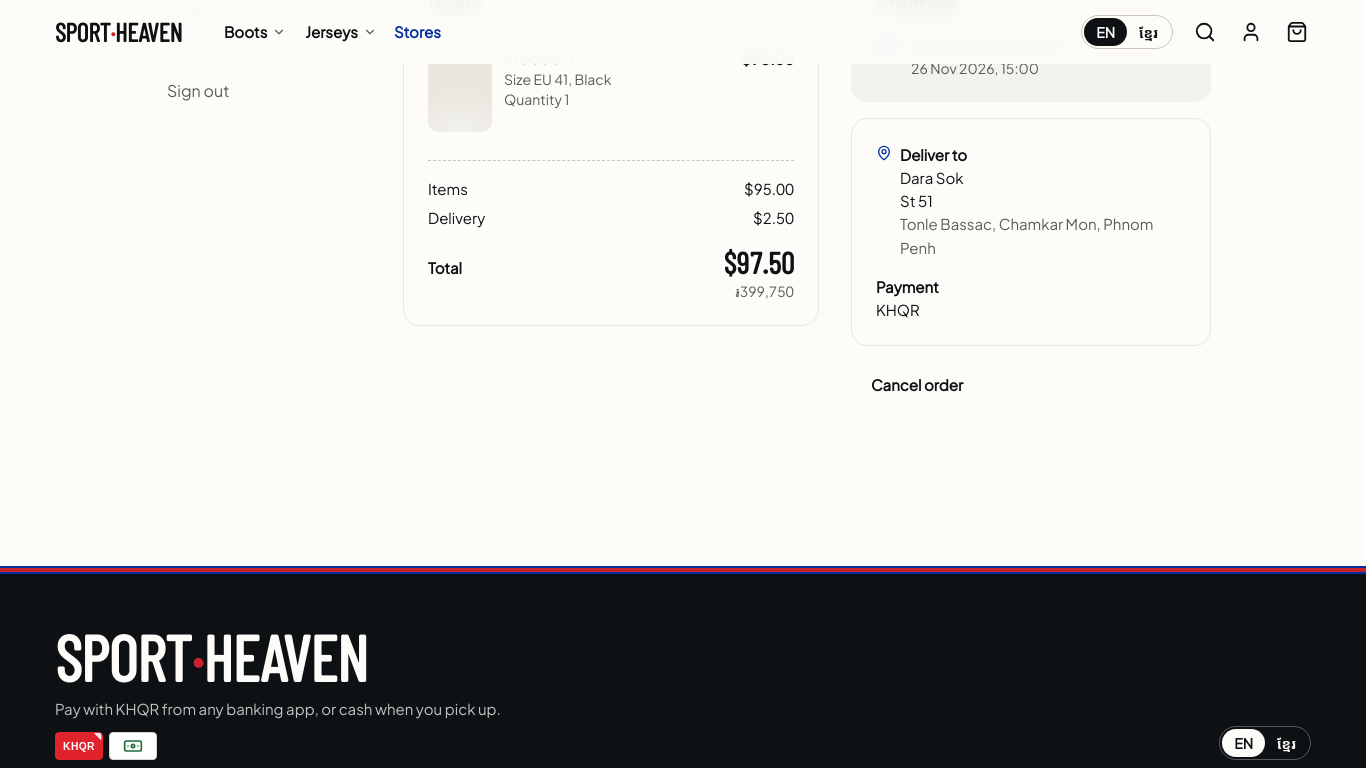
Test: account › cancels an unpaid order from the account and shows it cancelled
(page scrolled)
Click the button "Cancel order".
click(917, 384)  # box [851,362,983,406]
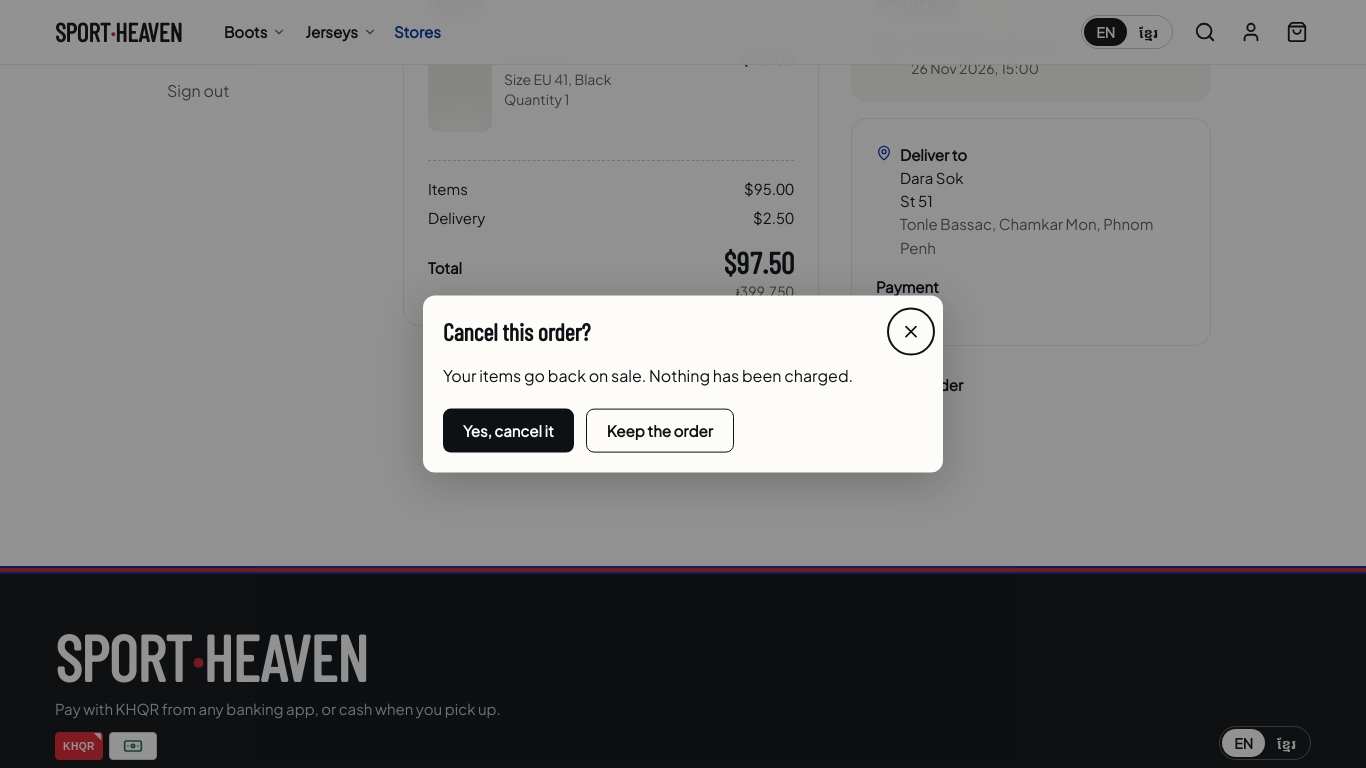
Click the button "Yes, cancel it".
click(508, 430)  # box [443,408,574,452]
(page scrolled)
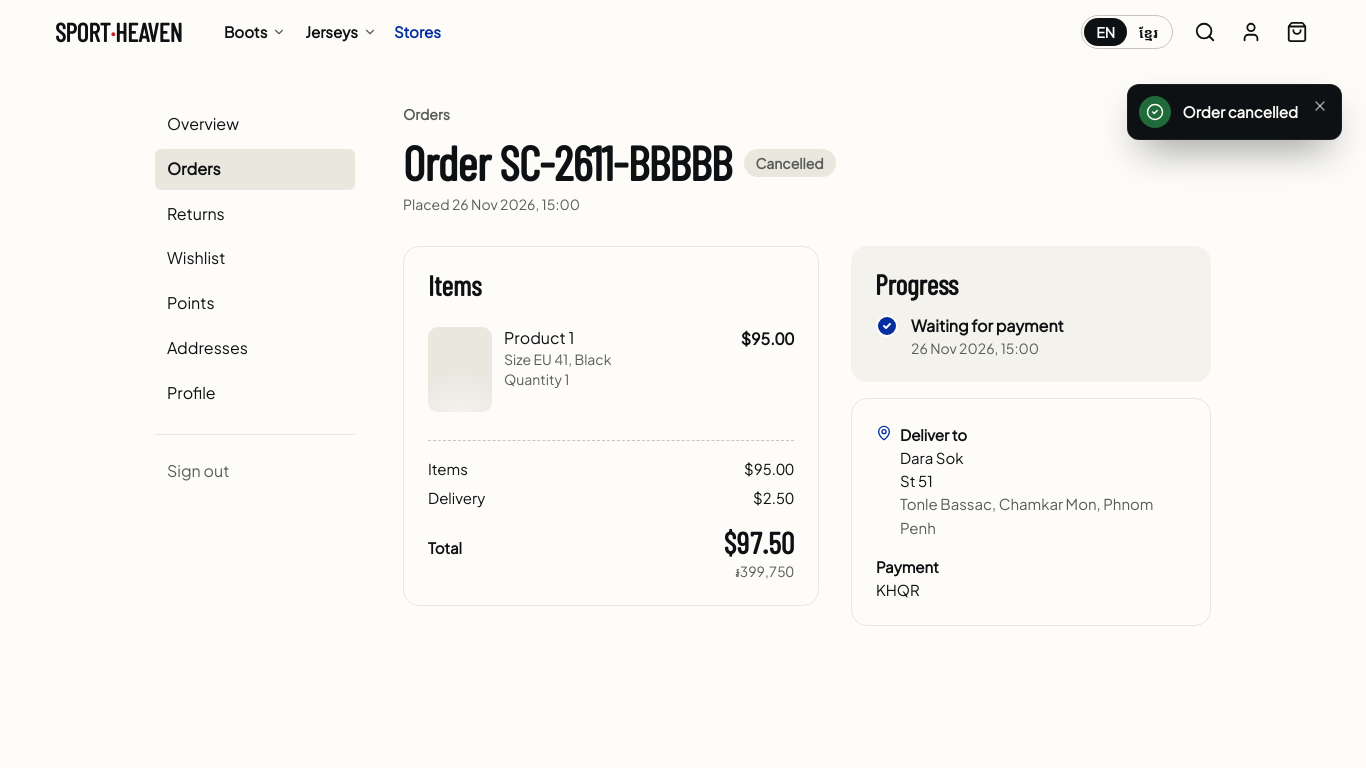
Check: the button "Cancel order" is gone
Check: the text "Cancelled" is shown, box [744,149,836,177]
